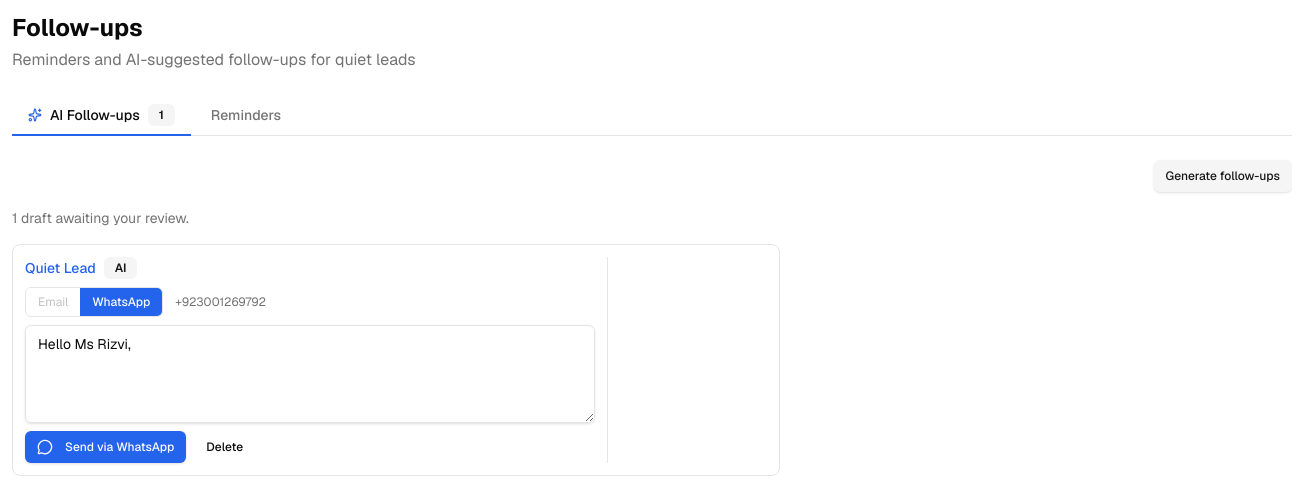
WhatsApp shortcuts mode (no Twilio) › Not sent returns the card to pending state
The image size is (1304, 493).
Click the button "Send via WhatsApp". click: (106, 447)
box: [25,431,186,463]
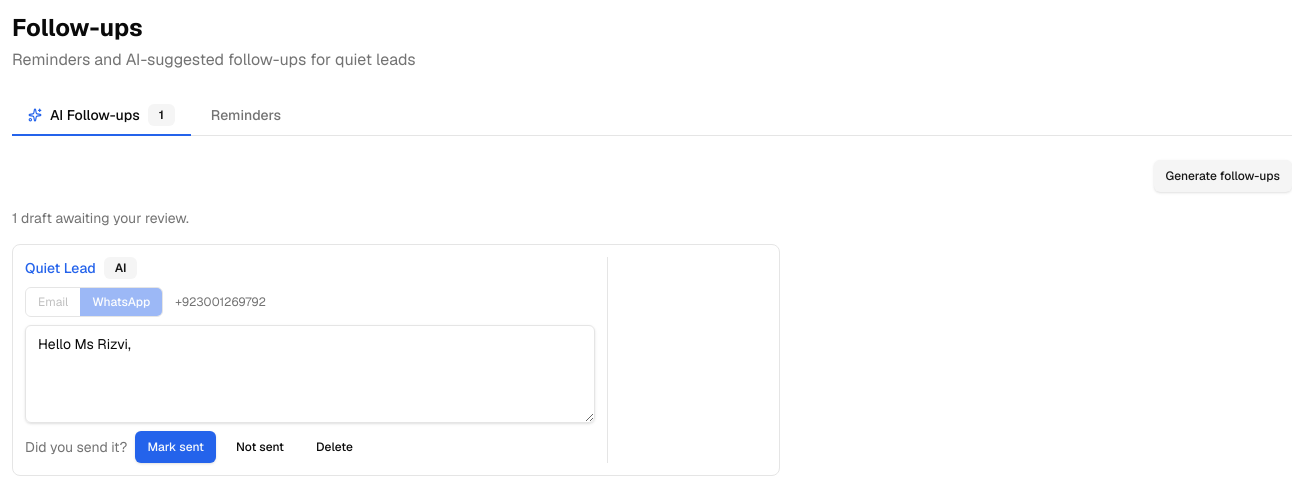
Click the button "Not sent". click: (260, 447)
box: [224,431,296,463]
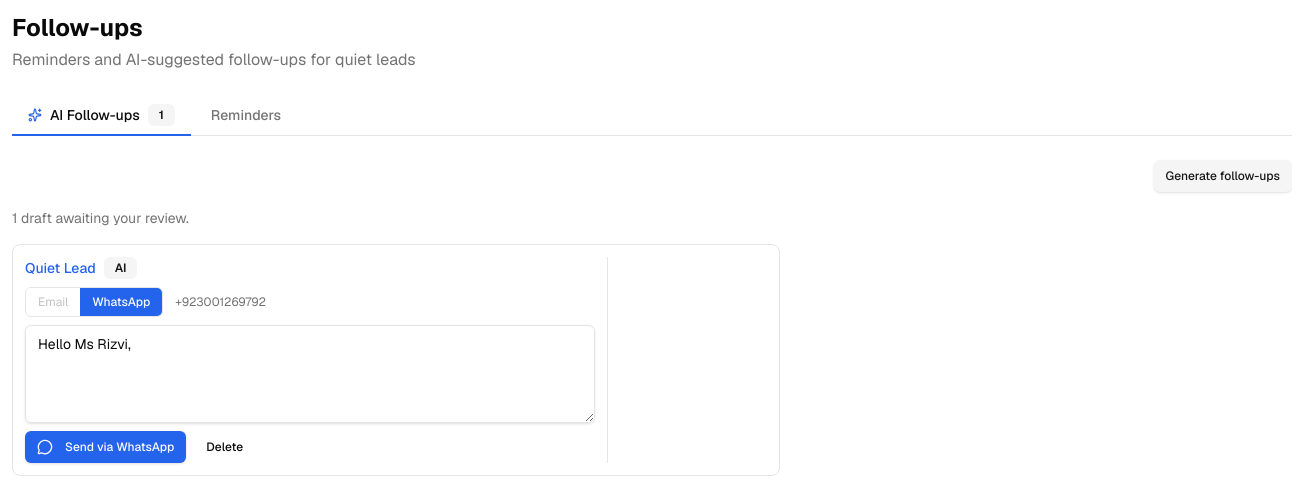
Now the button "Send via WhatsApp" is shown, box [25,431,186,463]
